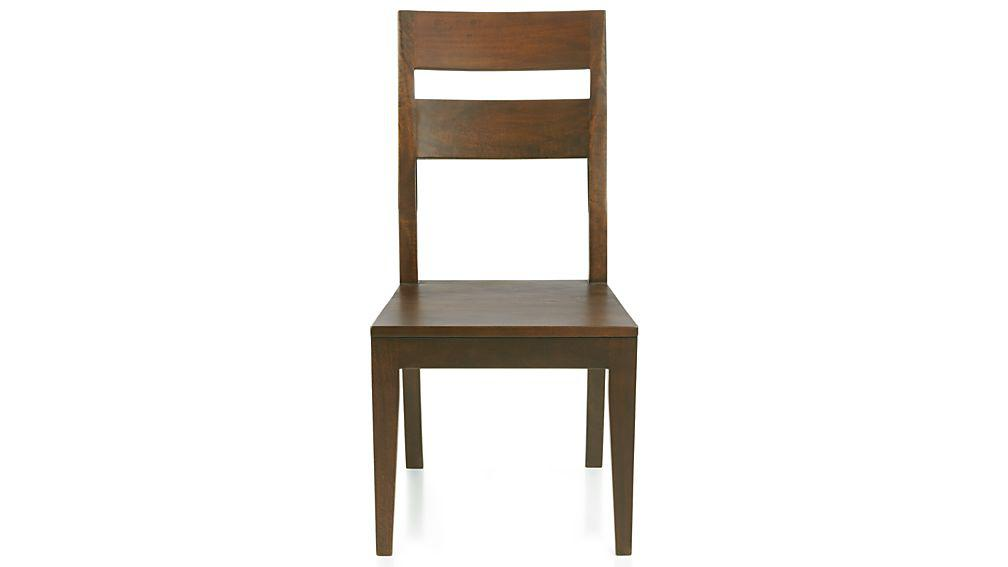chair: (346, 6, 683, 567)
